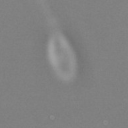normal: (33, 1, 62, 33)
